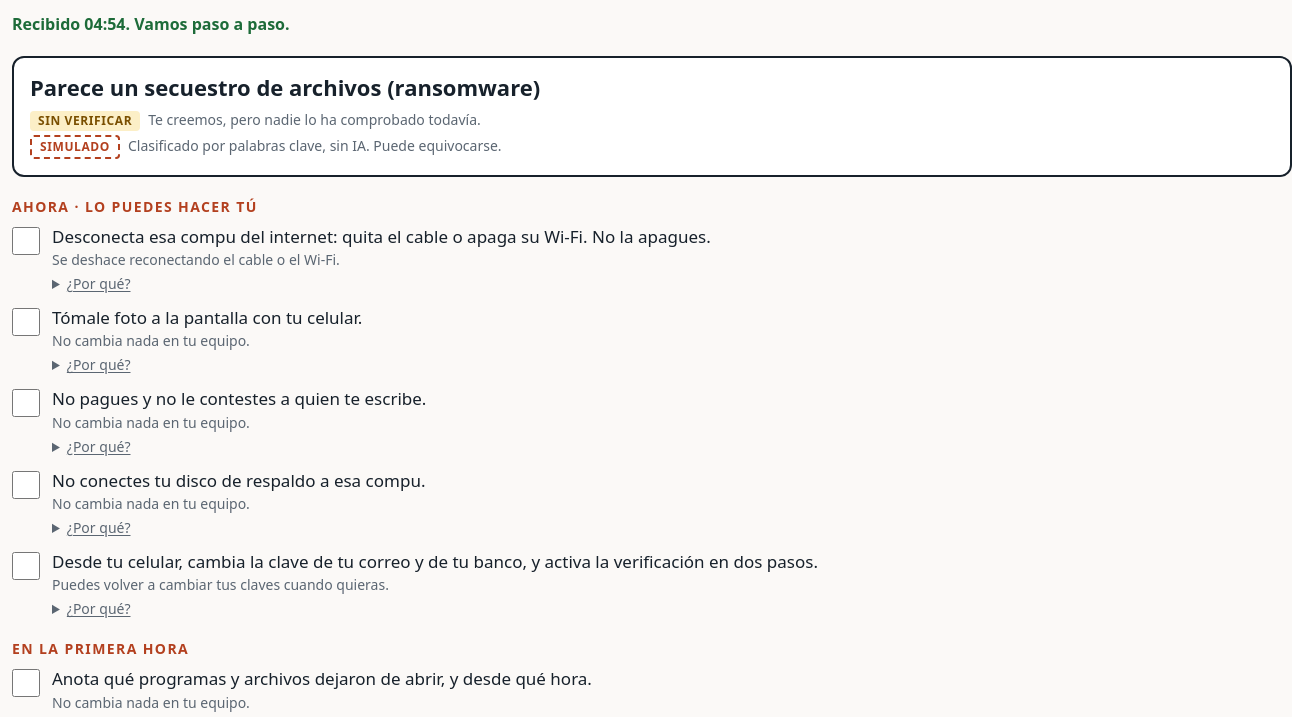
Test: plan screen › ticking a step writes a timestamped bitácora entry
Click the 1st checkbox.
click(26, 240)  # box x1=12 y1=226 x2=40 y2=254
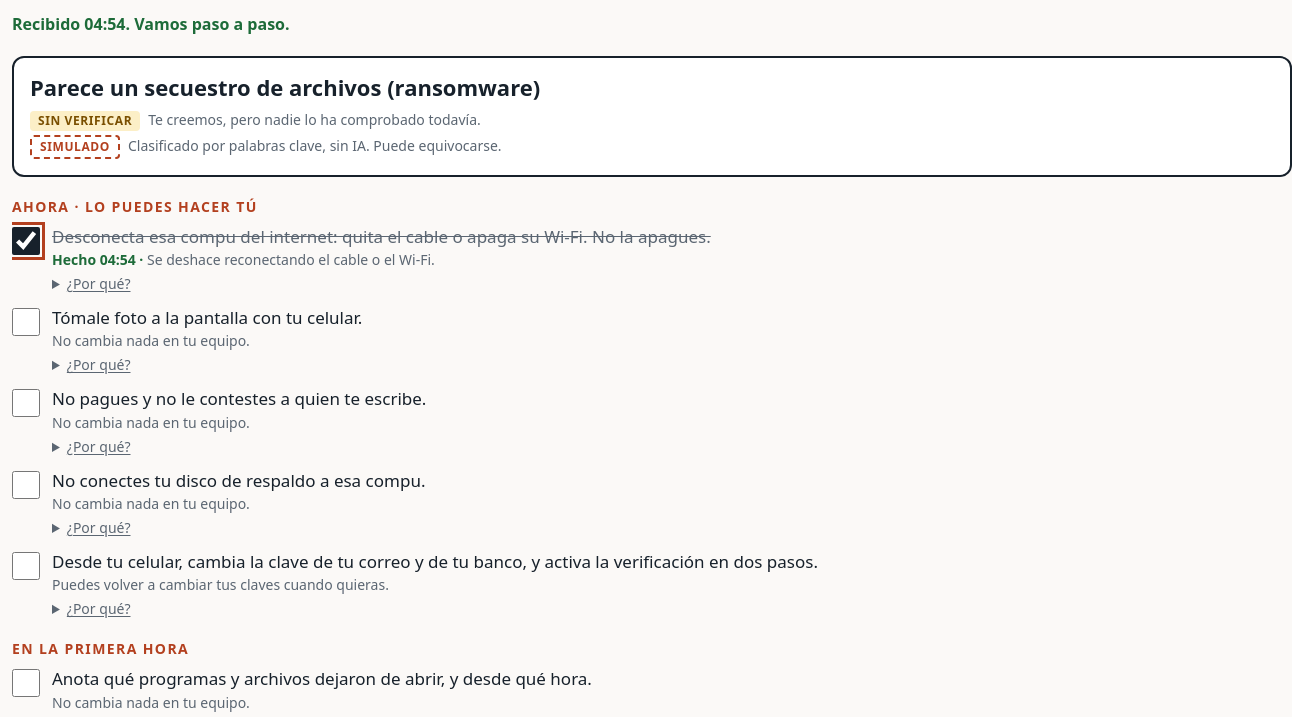
Expected: the 1st checkbox is checked, x1=12 y1=226 x2=40 y2=254
Expected: the text "Hecho 04:54 ·" is shown, x1=52 y1=250 x2=147 y2=269
